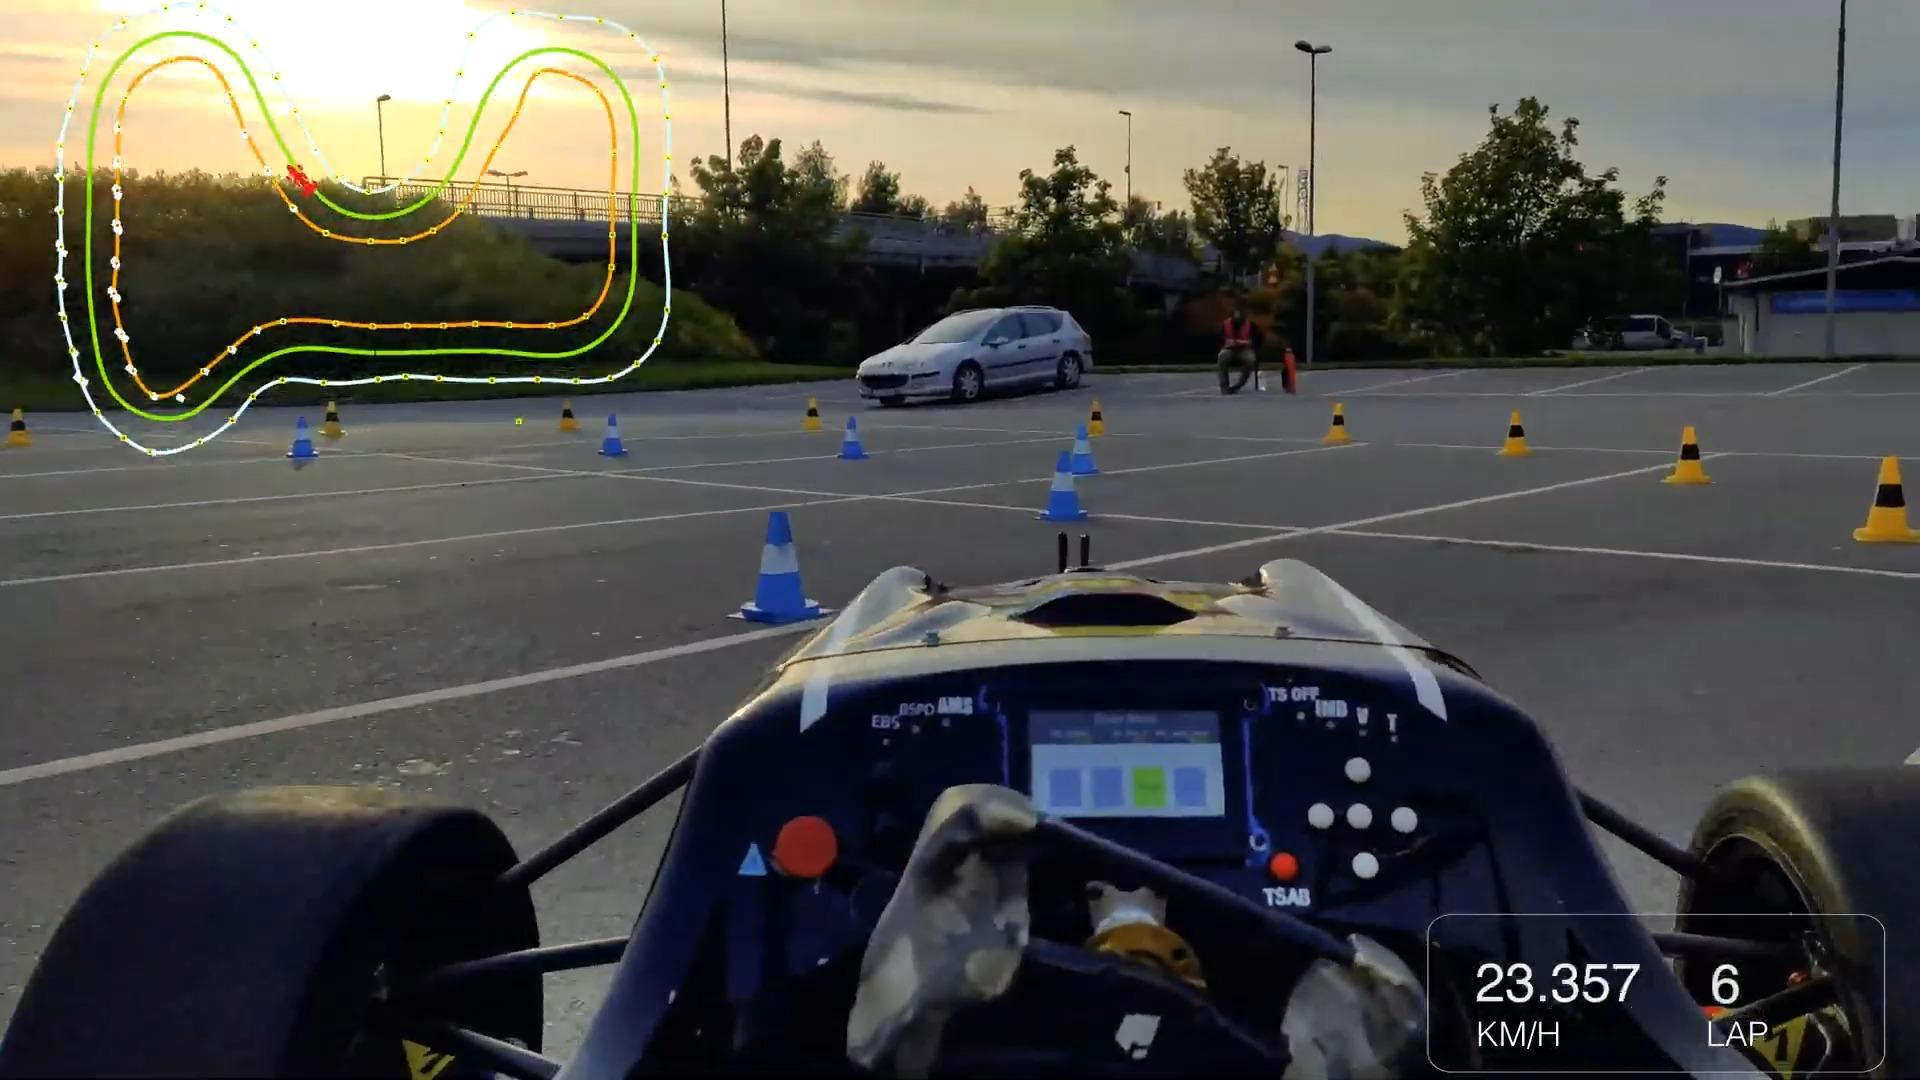blue_cone: (719, 510, 833, 632), (1042, 451, 1089, 521), (1064, 423, 1100, 475), (286, 415, 319, 460), (837, 415, 868, 460), (596, 414, 628, 456)
yellow_cone: (1853, 452, 1920, 543), (1660, 425, 1714, 487), (1497, 411, 1532, 458), (1320, 402, 1354, 446), (3, 409, 34, 450), (320, 401, 348, 438), (556, 398, 583, 434), (1087, 400, 1109, 436), (803, 396, 827, 430)
